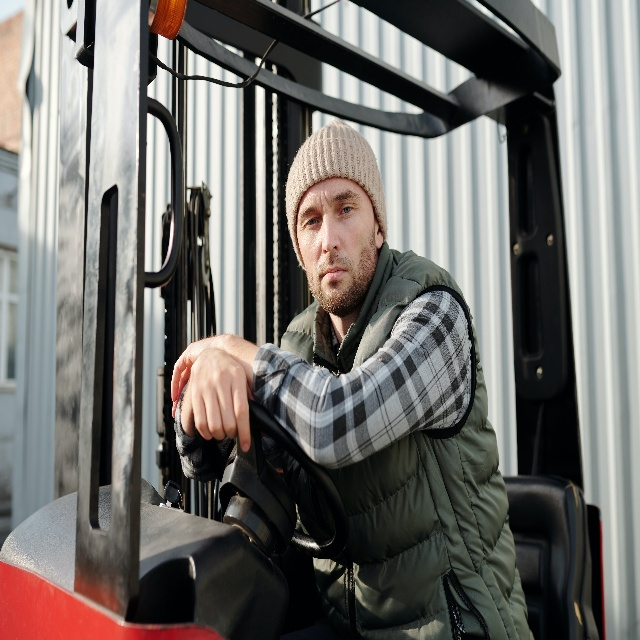Sin_guantes: (172, 331, 254, 421), (193, 348, 255, 453)
